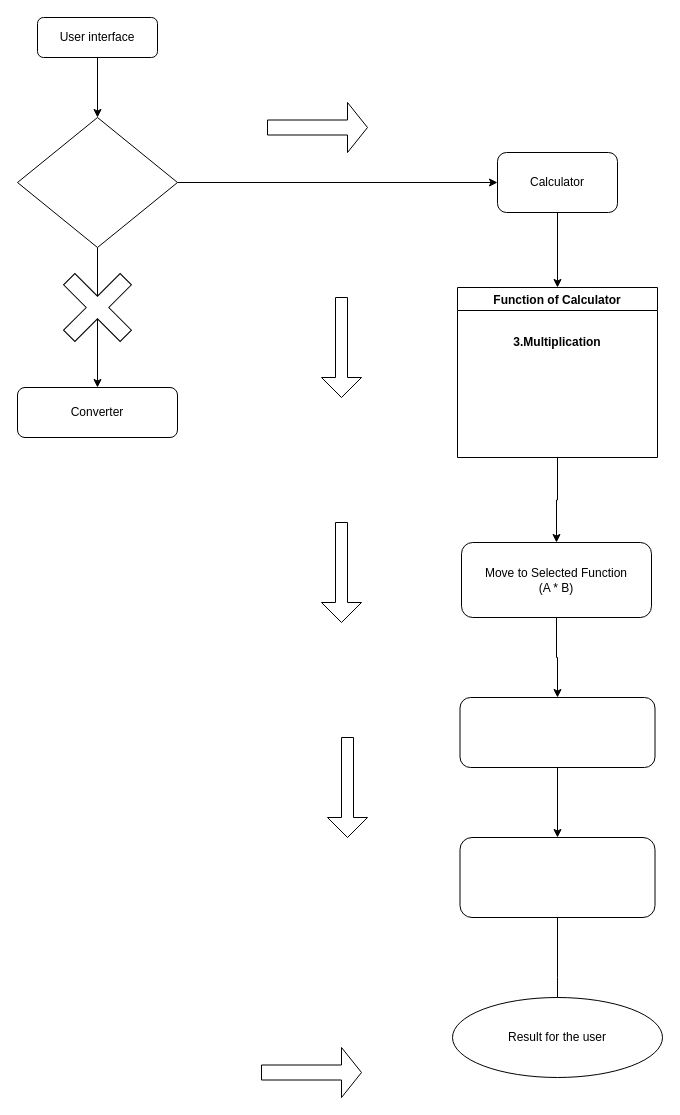
Some shapes in this 680 by 1115 pixel diagram are drawn without their labels. Each missing label, with the centre of its shape:
"Calculator /Converter" belongs at pixel 97 182.
"Enter the values for A and B" belongs at pixel 557 732.
"result = A - B" belongs at pixel 557 877.
